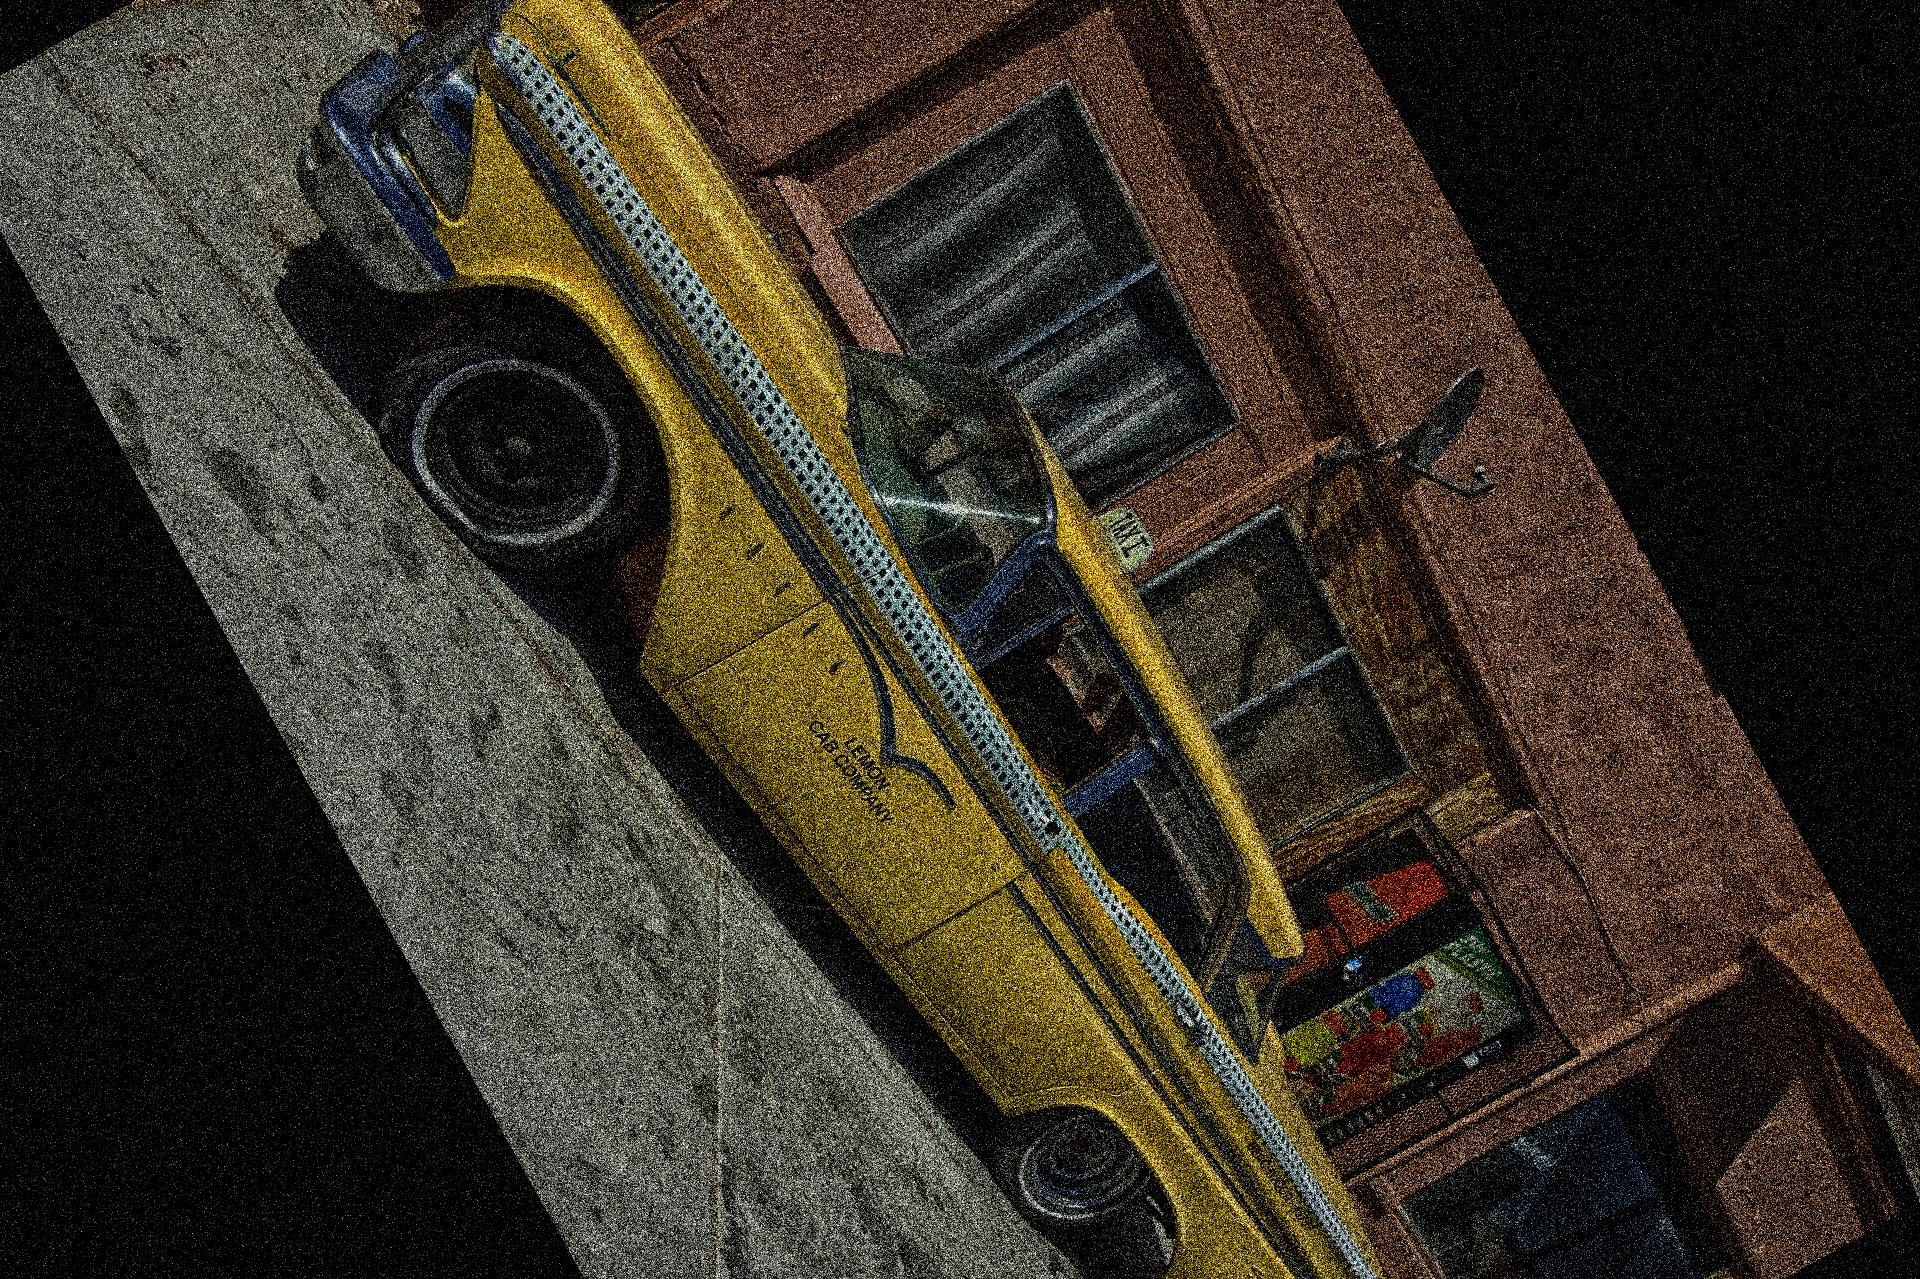taxi: (288, 6, 1455, 1279)
